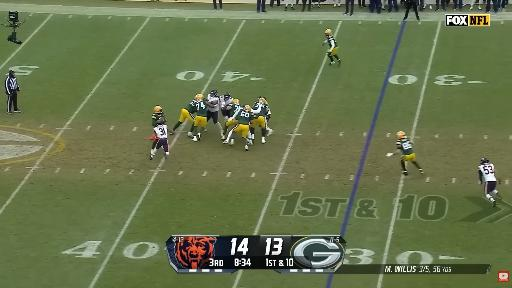Helmet: (156, 117, 167, 125), (397, 131, 405, 138), (154, 106, 162, 113), (481, 158, 489, 164), (224, 92, 230, 100), (258, 97, 266, 103), (195, 94, 203, 100), (325, 29, 332, 35), (211, 90, 217, 96), (232, 99, 239, 104), (245, 106, 251, 111)
Jersey: (479, 163, 496, 181), (397, 137, 413, 155), (236, 110, 253, 124), (253, 102, 268, 117), (208, 94, 220, 111), (195, 100, 207, 116), (152, 112, 164, 127), (154, 125, 167, 138), (228, 103, 241, 116), (185, 100, 196, 113), (222, 97, 233, 108), (327, 35, 337, 47)
Player: (387, 131, 423, 175), (170, 94, 203, 136), (223, 106, 253, 150), (479, 158, 501, 206), (192, 95, 213, 141), (251, 97, 270, 143), (150, 118, 169, 159), (222, 99, 241, 139), (207, 90, 223, 135), (323, 29, 340, 65), (221, 93, 233, 120), (152, 106, 164, 127)
